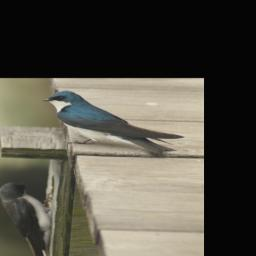Swallow: (43, 90, 184, 155)
